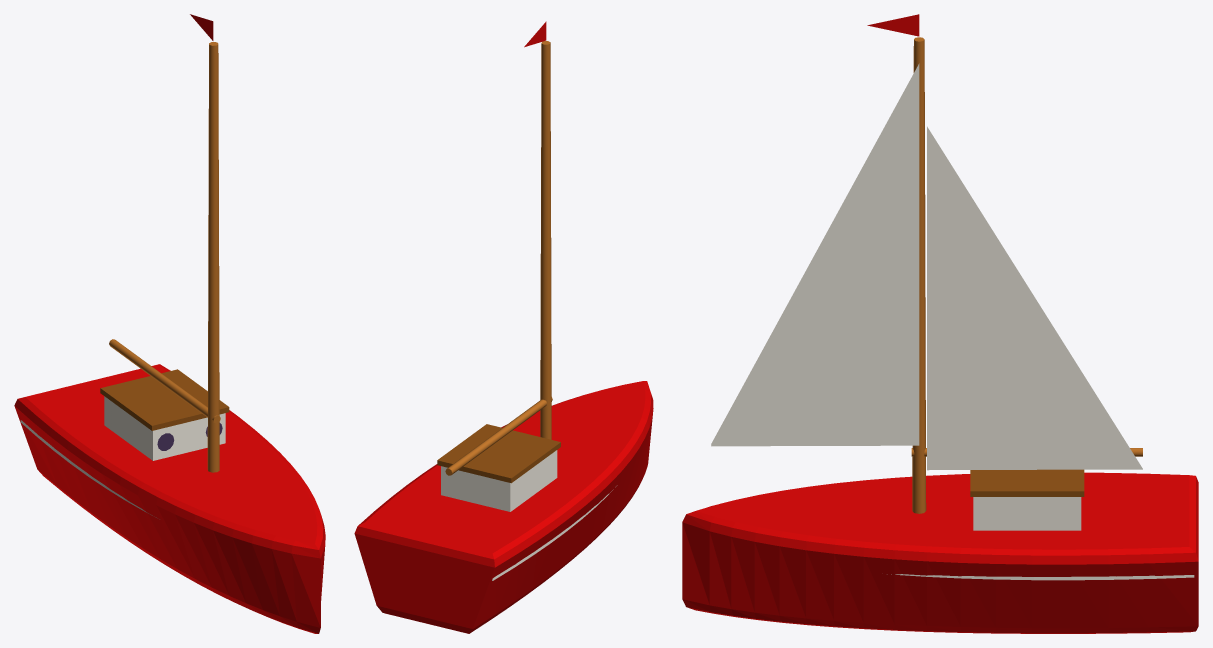
File: voilier-rouge.glb
3 renders of one model, left to right at view 1: azimuth 30°, elevation 25°; view 2: azimuth 150°, elevation 25°; view 3: azimuth 270°, elevation 25°, orthographic. The views are drawn at different scales.
Parts seen in each view (by area): view 1: coque__rouge, coque__orange, coque__orange_fonce, coque__blanc; view 2: coque__rouge, coque__orange, coque__blanc, coque__orange_fonce; view 3: coque__rouge, grand_voile__blanc, foc__blanc, coque__blanc, coque__orange, coque__orange_fonce.
Boxes of the visible parts, bbox=[...] form: coque__rouge: bbox=[14, 364, 325, 633]; coque__orange: bbox=[109, 42, 220, 472]; coque__orange_fonce: bbox=[100, 369, 229, 430]; coque__blanc: bbox=[20, 396, 225, 519]; coque__rouge: bbox=[354, 381, 653, 633]; coque__orange: bbox=[445, 41, 552, 475]; coque__blanc: bbox=[441, 450, 617, 580]; coque__orange_fonce: bbox=[437, 424, 560, 483]; coque__rouge: bbox=[682, 472, 1198, 633]; grand_voile__blanc: bbox=[711, 63, 919, 446]; foc__blanc: bbox=[927, 126, 1142, 470]; coque__blanc: bbox=[887, 497, 1194, 580]; coque__orange: bbox=[911, 37, 1142, 513]; coque__orange_fonce: bbox=[970, 469, 1084, 496].
Bounding box in the file's own units: 1.28 × 4.2 × 3.3.
